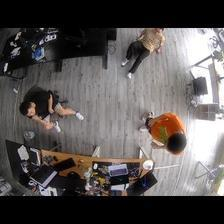normal: (21, 91, 83, 133), (137, 110, 189, 155), (121, 29, 166, 76)
